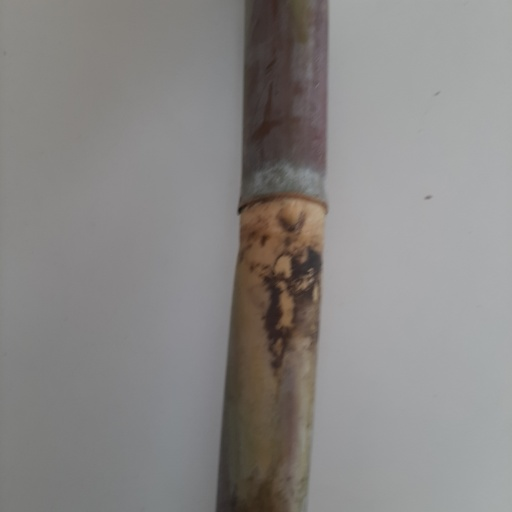Bud: (275, 204, 306, 234)
